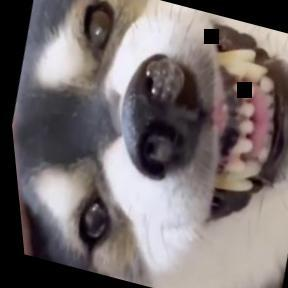nasal_discharge: (98, 41, 217, 191)
